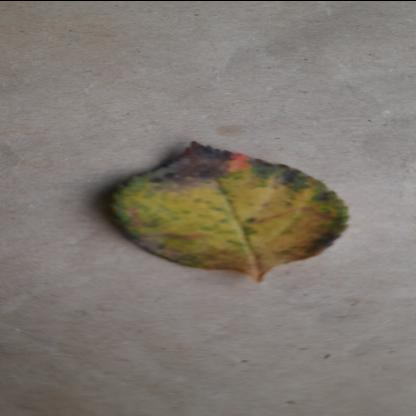downy-mildew: (108, 140, 354, 272)
